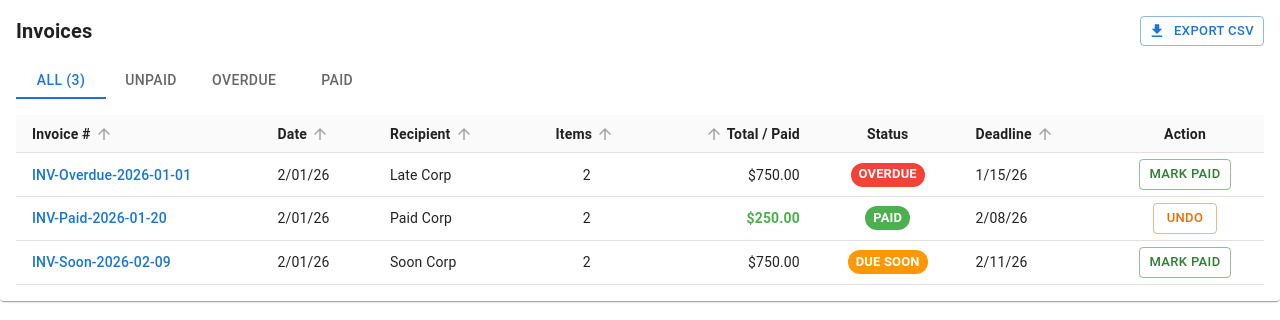
Test: InvoiceListPanel › filters to unpaid invoices when Unpaid tab is clicked
Click the tab "Unpaid": (151, 81) [106,63,196,99]
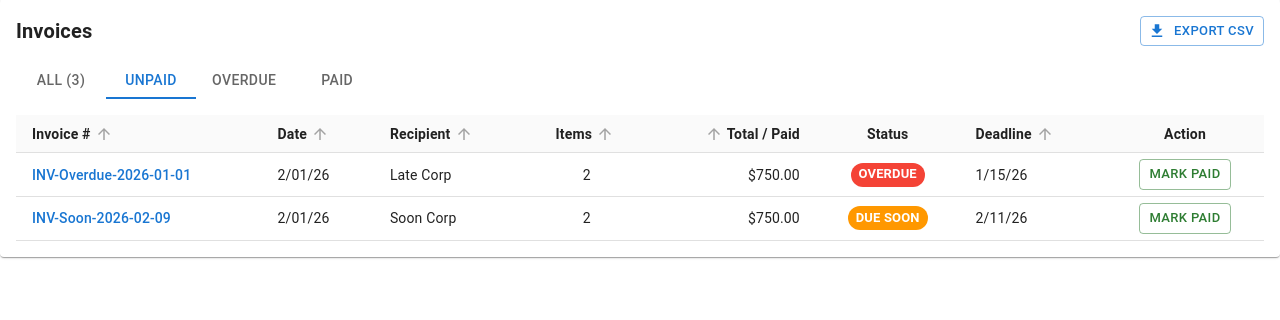
Check: the text "INV-Overdue-2026-01-01" is shown, box [16,153,262,197]
Check: the text "INV-Paid-2026-01-20" is gone
